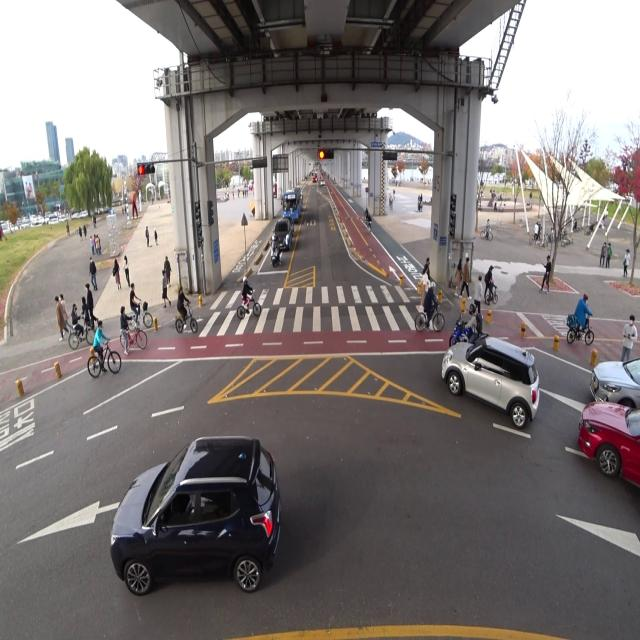Bus: (280, 188, 304, 226)
Car: (112, 431, 280, 615), (441, 322, 549, 442), (567, 396, 640, 483), (586, 350, 640, 418), (270, 216, 292, 249), (282, 213, 294, 230)
Motorcycle: (449, 300, 485, 350), (271, 230, 283, 269), (269, 233, 282, 269)
